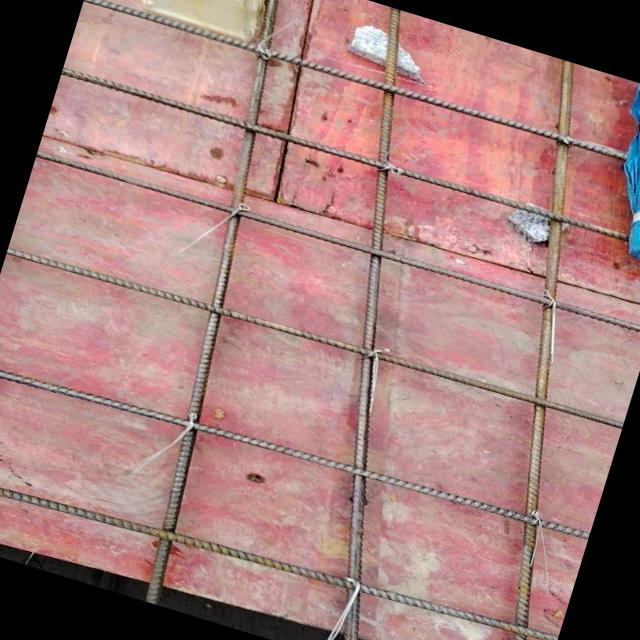ribbed bar: (202, 6, 546, 640), (82, 0, 349, 605), (375, 59, 640, 640), (6, 235, 624, 442), (0, 343, 590, 557), (37, 141, 640, 342), (0, 449, 558, 640), (61, 63, 631, 248), (85, 0, 625, 165)
